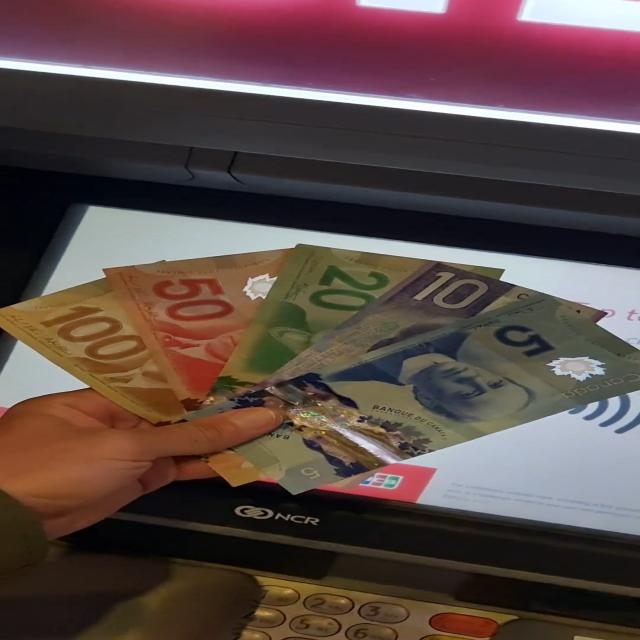10 cad: (252, 263, 532, 395)
100 cad: (0, 278, 193, 427)
20 cad: (199, 245, 435, 411)
5 cad: (240, 297, 640, 496)
50 cad: (109, 246, 299, 415)
